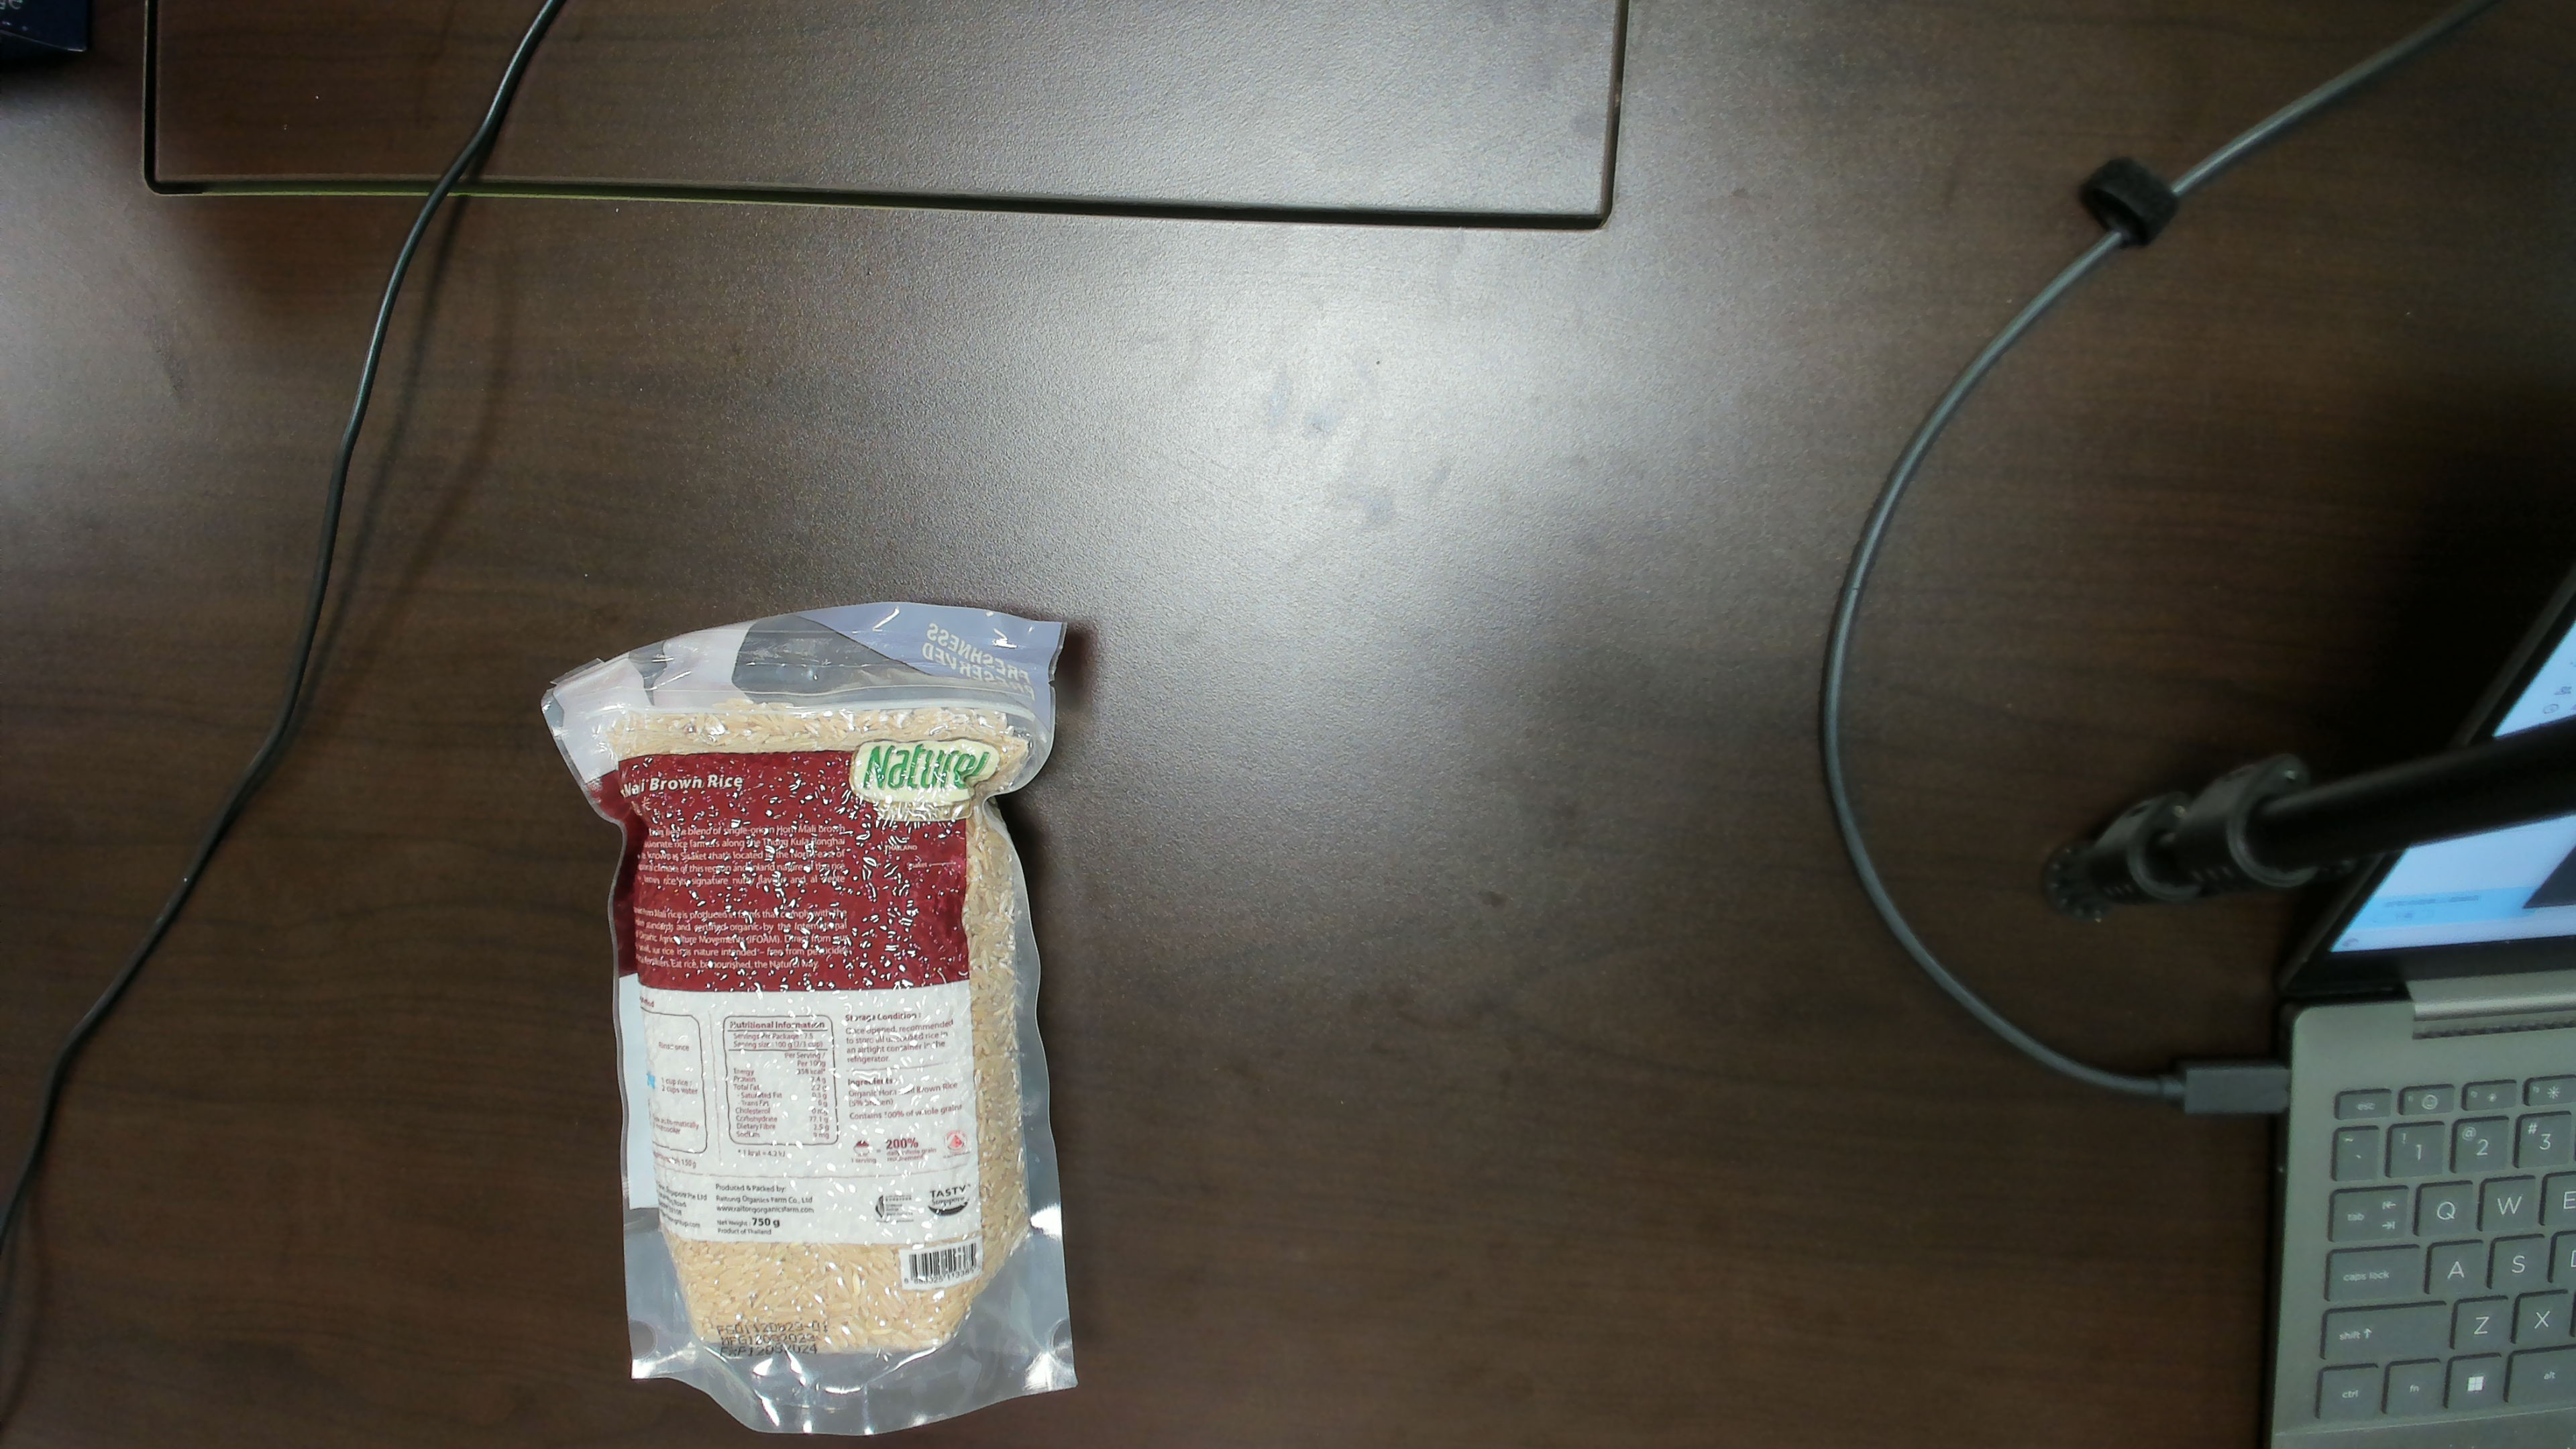Rice(brown-others)_700-799g_NonHalal_Healthy: (603, 683, 1035, 1391)
